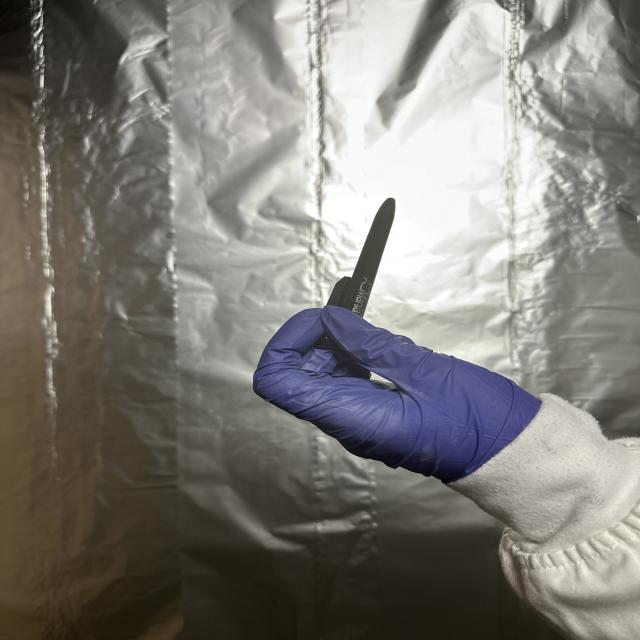gloves_contaminated: (254, 306, 541, 482)
